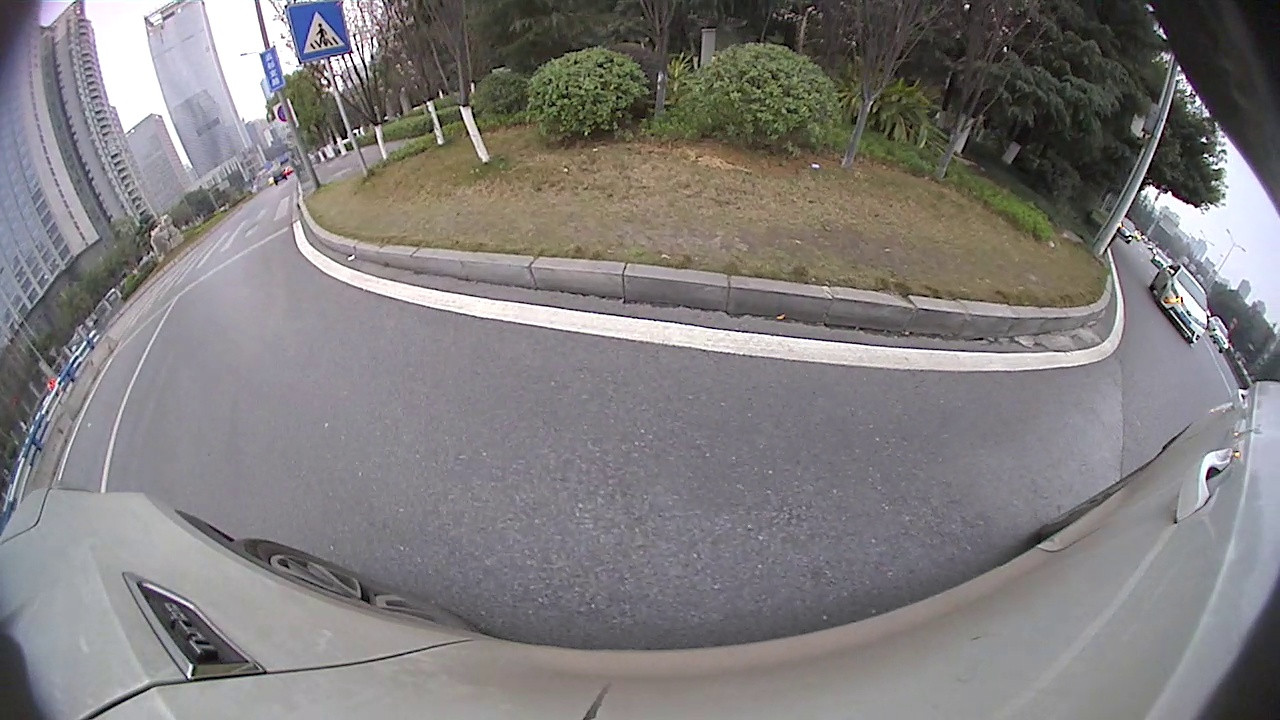bus: (765, 130, 944, 215)
car: (943, 161, 1179, 311), (1100, 283, 1279, 456), (577, 122, 728, 236), (732, 150, 847, 215), (444, 153, 545, 216)
front: (1149, 345, 1243, 453), (947, 213, 974, 244), (535, 179, 548, 206)
rear: (506, 184, 524, 213), (753, 183, 767, 212)
